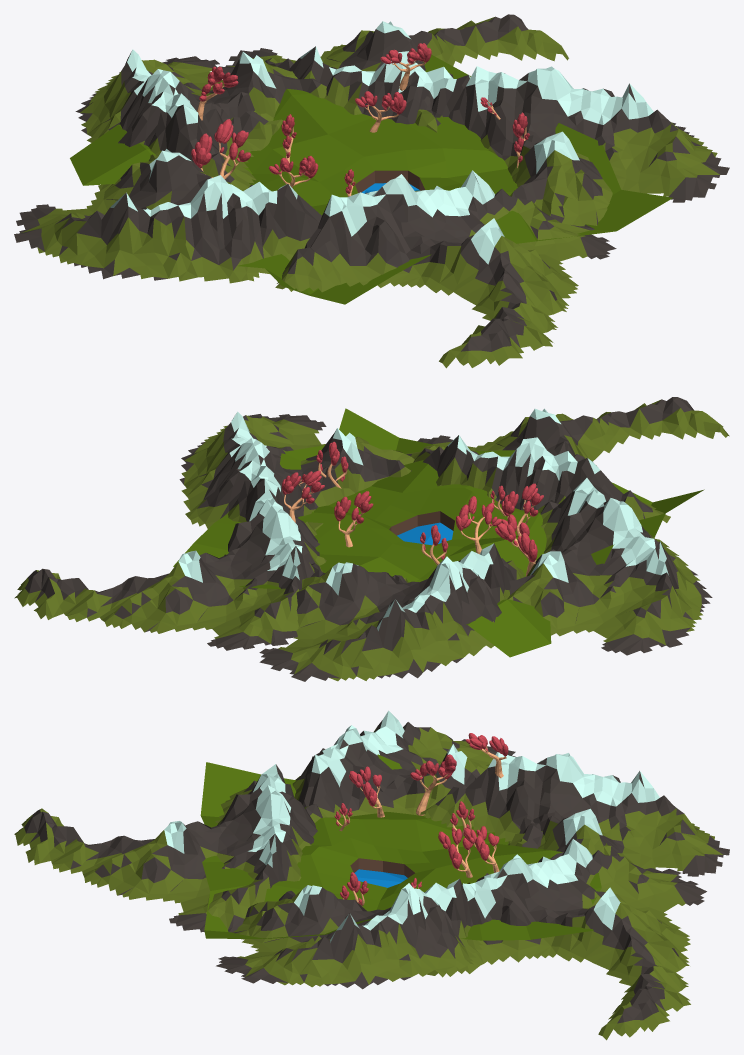
File: MountainRangeblend.fbx
The picture shows the model from 3 angles, top to bottom: view 1: azimuth 30°, elevation 25°; view 2: azimuth 150°, elevation 25°; view 3: azimuth 270°, elevation 25°; orthographic projection. The views are drawn at different scales.
Visible parts, largest first — view 1: MountainRange.013, MountainRange.010, Plane, MountainRange.005, MountainRange.011, MountainRange.012, Tree1.007, Tree1.006, Tree1.004, Tree1.005, Tree1.008; view 2: Plane, MountainRange.011, MountainRange.012, MountainRange.010, MountainRange.013, MountainRange.005, Tree1.007, Tree1.005, Tree1.004, Tree1.006, Tree1.008, Tree2.012 (+1 smaller); view 3: MountainRange.012, MountainRange.013, MountainRange.005, Plane, MountainRange.011, MountainRange.010, Tree1.007, Tree1.008, Tree1.006, Tree1.004, Tree1.005.
Part boxes in pixels (x1,y1,x2,y2): MountainRange.013: [275, 170, 616, 368]; MountainRange.010: [14, 110, 322, 283]; Plane: [70, 54, 672, 304]; MountainRange.005: [448, 66, 729, 226]; MountainRange.011: [75, 49, 440, 190]; MountainRange.012: [219, 14, 568, 124]; Tree1.007: [191, 119, 251, 179]; Tree1.006: [355, 91, 406, 132]; Tree1.004: [380, 43, 431, 90]; Tree1.005: [197, 66, 238, 120]; Tree1.008: [268, 156, 318, 187]; Plane: [173, 408, 704, 657]; MountainRange.011: [259, 521, 525, 681]; MountainRange.012: [14, 489, 326, 650]; MountainRange.010: [392, 478, 712, 655]; MountainRange.013: [405, 397, 729, 522]; MountainRange.005: [179, 411, 414, 528]; Tree1.007: [495, 514, 537, 576]; Tree1.005: [455, 496, 501, 554]; Tree1.004: [282, 470, 324, 522]; Tree1.006: [334, 491, 373, 547]; Tree1.008: [501, 483, 543, 536]; Tree2.012: [316, 441, 348, 488]; MountainRange.012: [427, 839, 706, 1040]; MountainRange.013: [14, 764, 317, 932]; MountainRange.005: [216, 878, 483, 989]; Plane: [200, 754, 601, 940]; MountainRange.011: [420, 752, 729, 876]; MountainRange.010: [292, 710, 542, 848]; Tree1.007: [410, 754, 456, 815]; Tree1.008: [349, 766, 384, 817]; Tree1.006: [438, 829, 473, 877]; Tree1.004: [463, 826, 499, 872]; Tree1.005: [465, 733, 508, 778].
Bounding box in the file's own units: 51351 × 10835 × 56412.
